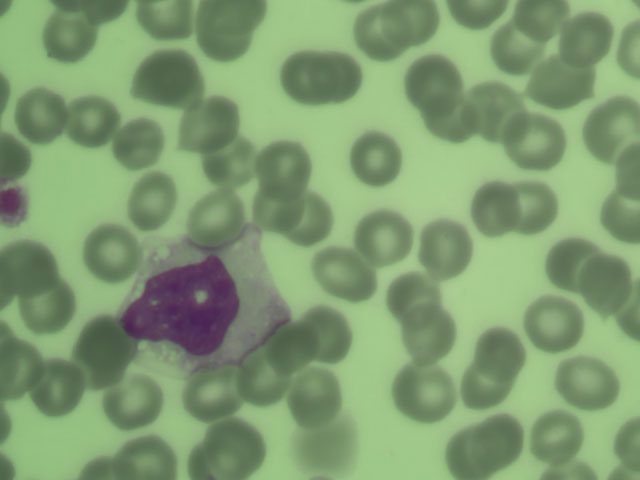Platelets: (1, 181, 32, 228)
RBC: (586, 95, 640, 150), (114, 437, 178, 480), (259, 142, 311, 193), (352, 134, 401, 184), (584, 258, 633, 308), (506, 185, 555, 235), (472, 181, 521, 231), (510, 116, 559, 166), (470, 85, 519, 135), (538, 58, 587, 108), (563, 13, 612, 63), (491, 24, 540, 74), (426, 93, 475, 143), (408, 56, 457, 106), (357, 8, 406, 58), (108, 377, 157, 427), (75, 326, 124, 376), (31, 362, 80, 412), (23, 278, 72, 328), (2, 242, 51, 292), (286, 196, 335, 246), (251, 187, 300, 237), (192, 193, 241, 243), (88, 225, 137, 275), (124, 174, 173, 224), (116, 118, 165, 168), (65, 96, 114, 146), (17, 89, 66, 139), (208, 132, 257, 182), (186, 97, 235, 147), (141, 51, 190, 101), (201, 11, 250, 61), (45, 11, 94, 61), (398, 367, 447, 417), (403, 312, 452, 362), (391, 274, 440, 324), (422, 222, 471, 272), (360, 211, 409, 261), (318, 249, 367, 299), (291, 372, 340, 422), (303, 309, 352, 359), (267, 321, 316, 371), (238, 356, 287, 406), (189, 367, 238, 417), (210, 424, 259, 474), (314, 51, 363, 101), (282, 50, 331, 100), (535, 411, 584, 461), (478, 415, 527, 465), (443, 428, 492, 478), (463, 361, 512, 411), (475, 327, 524, 377), (563, 360, 612, 410), (530, 296, 579, 346), (547, 237, 596, 287), (139, 1, 195, 44), (1, 342, 49, 392), (1, 124, 41, 184), (597, 190, 640, 243), (604, 145, 640, 201), (385, 1, 436, 40), (512, 1, 567, 37), (205, 1, 271, 31), (185, 441, 233, 479), (612, 413, 640, 478), (70, 446, 123, 479), (613, 21, 640, 83), (612, 279, 640, 337), (448, 1, 510, 25), (62, 1, 131, 21)
WBC: (117, 250, 273, 361)
